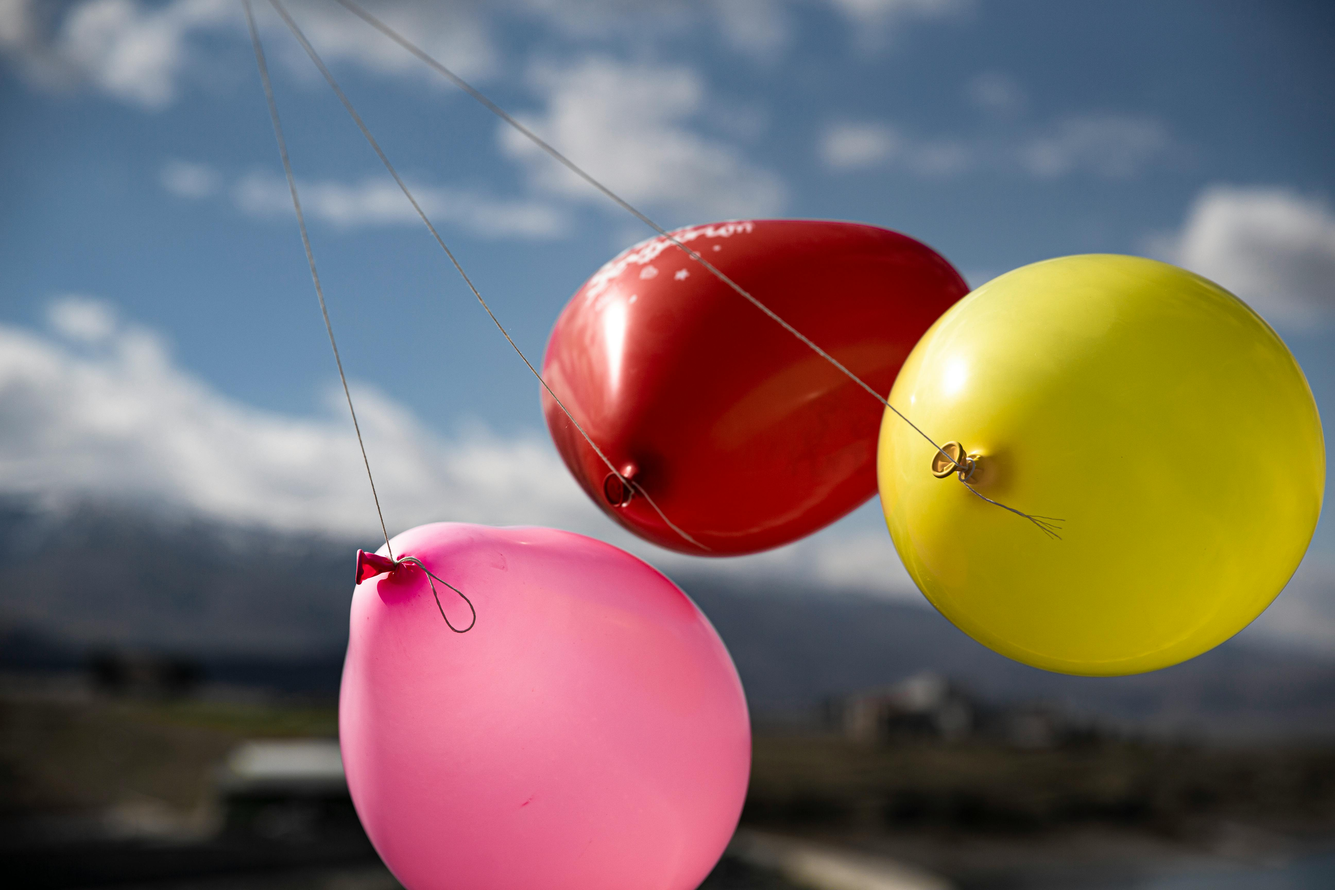balloon: (878, 255, 1325, 675), (339, 523, 750, 888), (543, 220, 968, 556)
